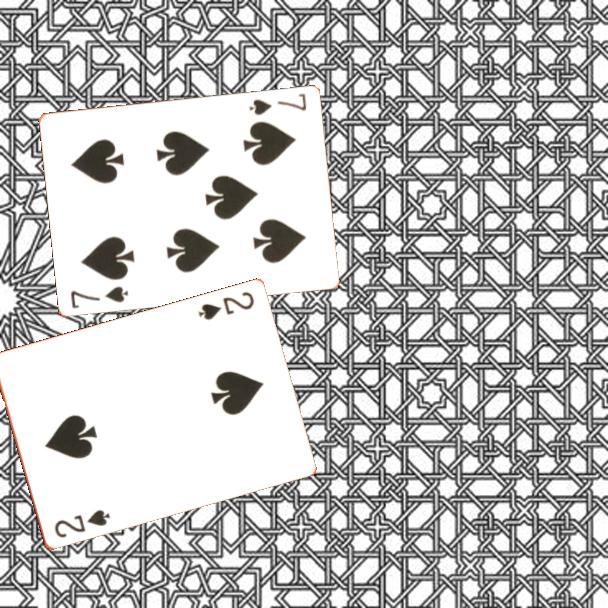s02: (195, 288, 257, 324), (51, 506, 113, 541)
s07: (246, 89, 310, 118), (67, 282, 131, 311)
